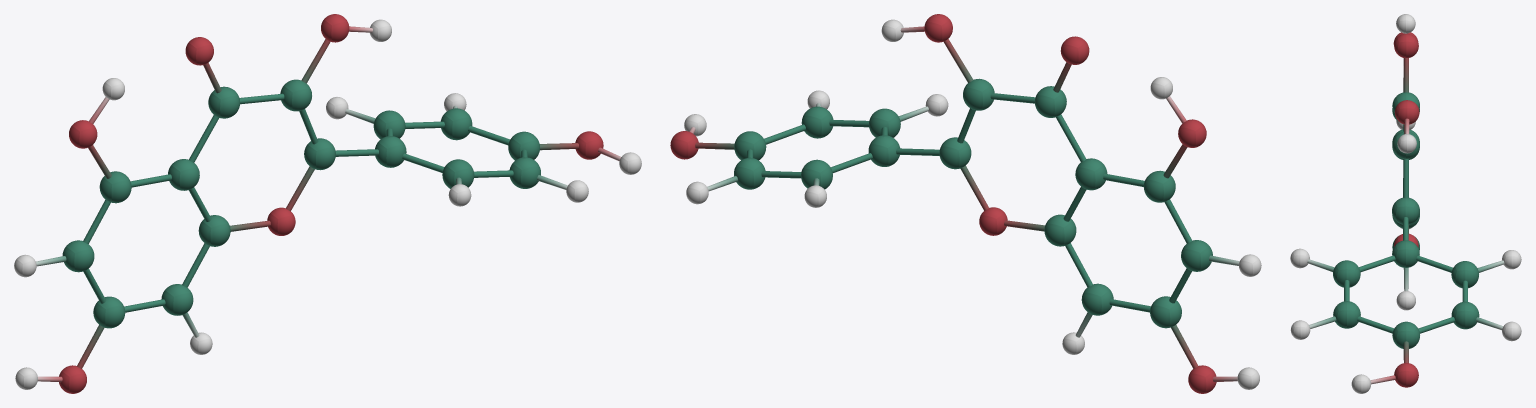
File: Kaempferol.fbx
3 renders of one model, left to right at view 1: azimuth 30°, elevation 25°; view 2: azimuth 150°, elevation 25°; view 3: azimuth 270°, elevation 25°, orthographic. The views are drawn at different scales.
Visible parts, largest first — view 1: curMeshHyperballExportedMesh; view 2: curMeshHyperballExportedMesh; view 3: curMeshHyperballExportedMesh.
Part boxes in pixels (box(x1,y1,x2,y2)): curMeshHyperballExportedMesh: box(14, 14, 641, 393); curMeshHyperballExportedMesh: box(670, 14, 1261, 393); curMeshHyperballExportedMesh: box(1290, 14, 1521, 393).
Bounding box in the file's own units: 12.24 × 6.31 × 4.72.
